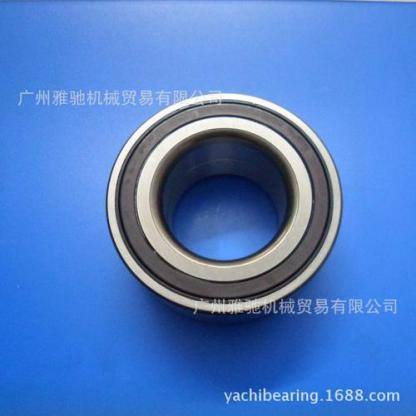FOD: (102, 91, 346, 327)
